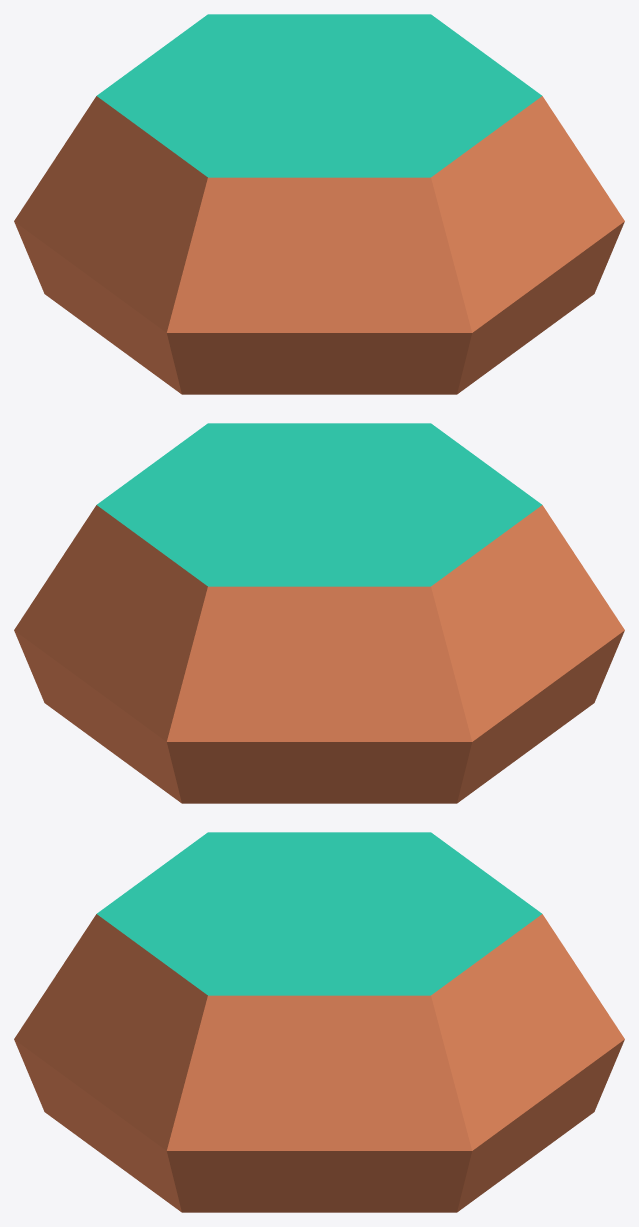
Rendered from rock_smallG.dae.
3 views of the same model, one above another, from view 1: azimuth 30°, elevation 25°; view 2: azimuth 150°, elevation 25°; view 3: azimuth 270°, elevation 25° (orthographic).
Visible parts, largest first — view 1: rock_smallG; view 2: rock_smallG; view 3: rock_smallG.
Boxes of the visible parts, x1=… form: rock_smallG: x1=14, y1=14, x2=624, y2=394; rock_smallG: x1=14, y1=423, x2=624, y2=803; rock_smallG: x1=14, y1=832, x2=624, y2=1212.
Bounding box in the file's own units: 0.5937 × 0.2453 × 0.6855.
